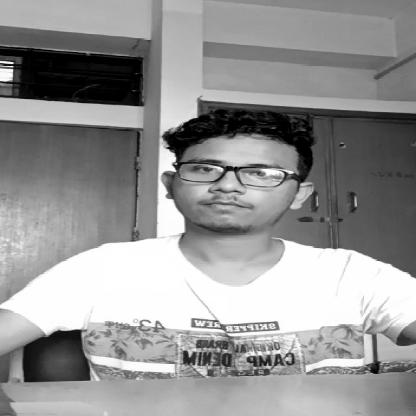Normal: (162, 115, 327, 233)
